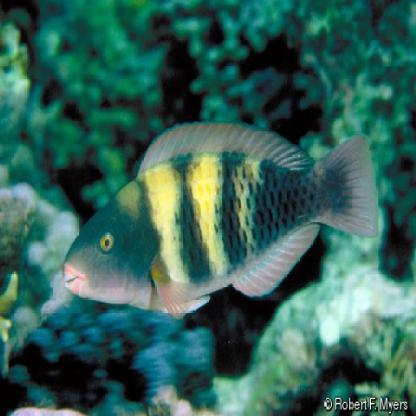parrot: (60, 117, 382, 322)
